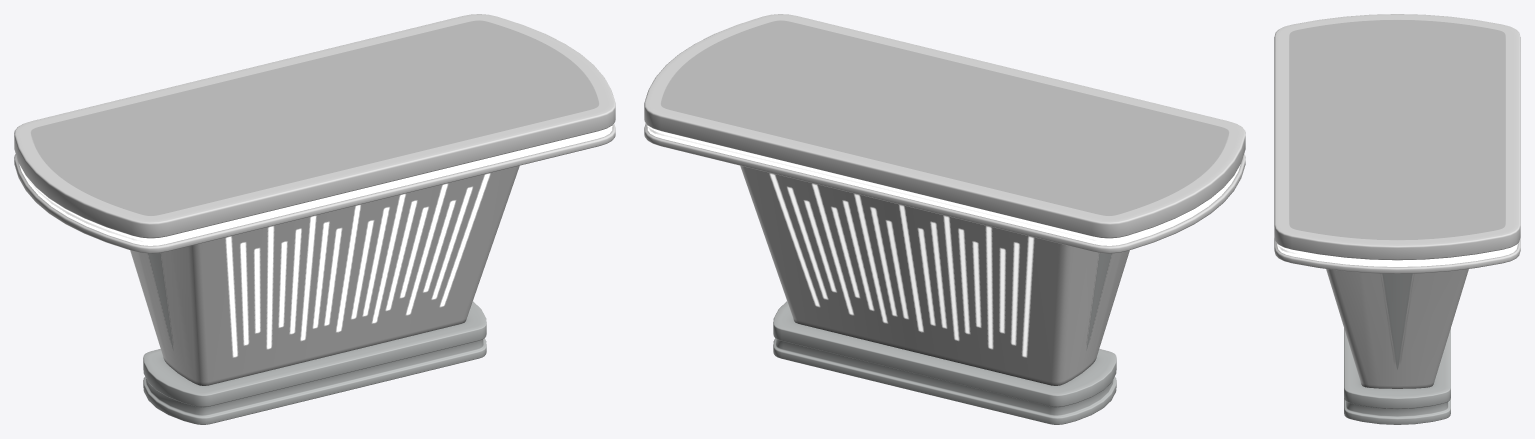
The model's file is BarTable01.FBX.
The picture shows the model from 3 angles, left to right: view 1: azimuth 30°, elevation 25°; view 2: azimuth 150°, elevation 25°; view 3: azimuth 270°, elevation 25°; orthographic projection. The views are drawn at different scales.
Parts seen in each view (by area): view 1: BarTable01; view 2: BarTable01; view 3: BarTable01.
Boxes of the visible parts, x1=… form: BarTable01: x1=14, y1=14, x2=615, y2=424; BarTable01: x1=644, y1=14, x2=1245, y2=424; BarTable01: x1=1274, y1=14, x2=1520, y2=424.
Size of what is drawn, in the model's own units: 2.44 by 1.1 by 1.09.
